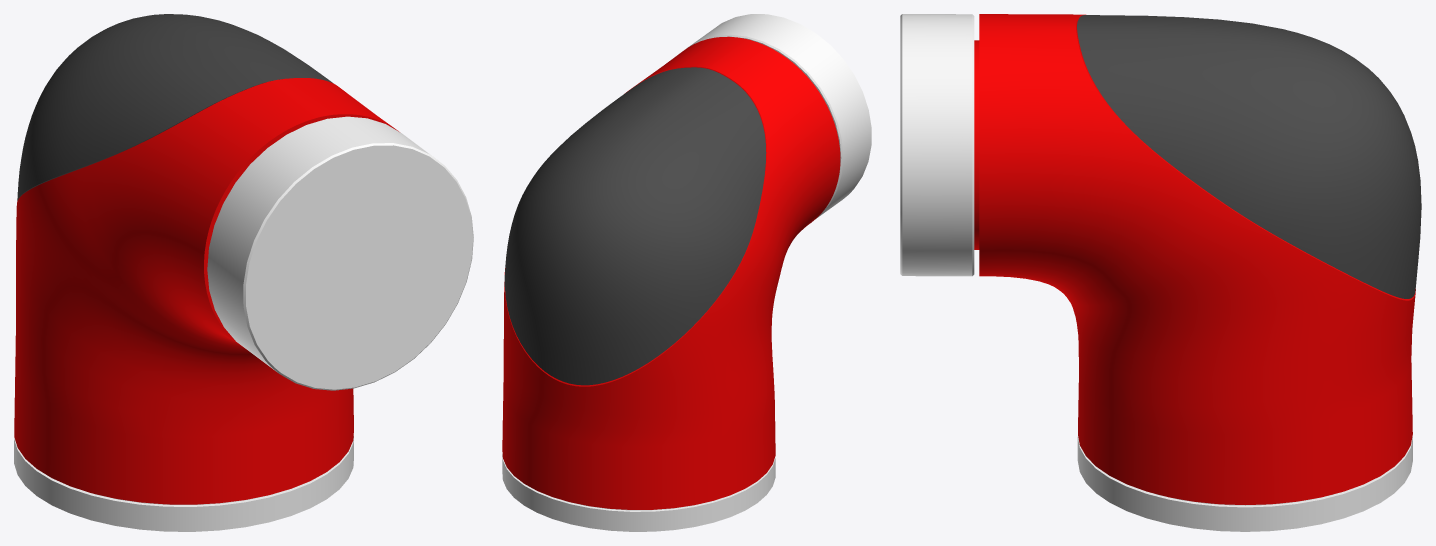
3 renders of one model, left to right at view 1: azimuth 30°, elevation 25°; view 2: azimuth 150°, elevation 25°; view 3: azimuth 270°, elevation 25°, orthographic. The views are drawn at different scales.
Parts seen in each view (by area): view 1: _3DGeom_23, _3DGeom_22, _3DGeom_24; view 2: _3DGeom_23, _3DGeom_24, _3DGeom_22; view 3: _3DGeom_23, _3DGeom_24, _3DGeom_22.
Part boxes in pixels (x1,y1,x2,y2): _3DGeom_23: (14, 78, 398, 504); _3DGeom_22: (14, 116, 473, 531); _3DGeom_24: (17, 14, 333, 200); _3DGeom_23: (502, 36, 840, 509); _3DGeom_24: (504, 67, 766, 385); _3DGeom_22: (502, 14, 871, 531); _3DGeom_23: (974, 14, 1415, 505); _3DGeom_24: (1077, 15, 1421, 298); _3DGeom_22: (900, 14, 1412, 531).
Bounding box in the file's own units: 0.136 × 0.2115 × 0.1958.
